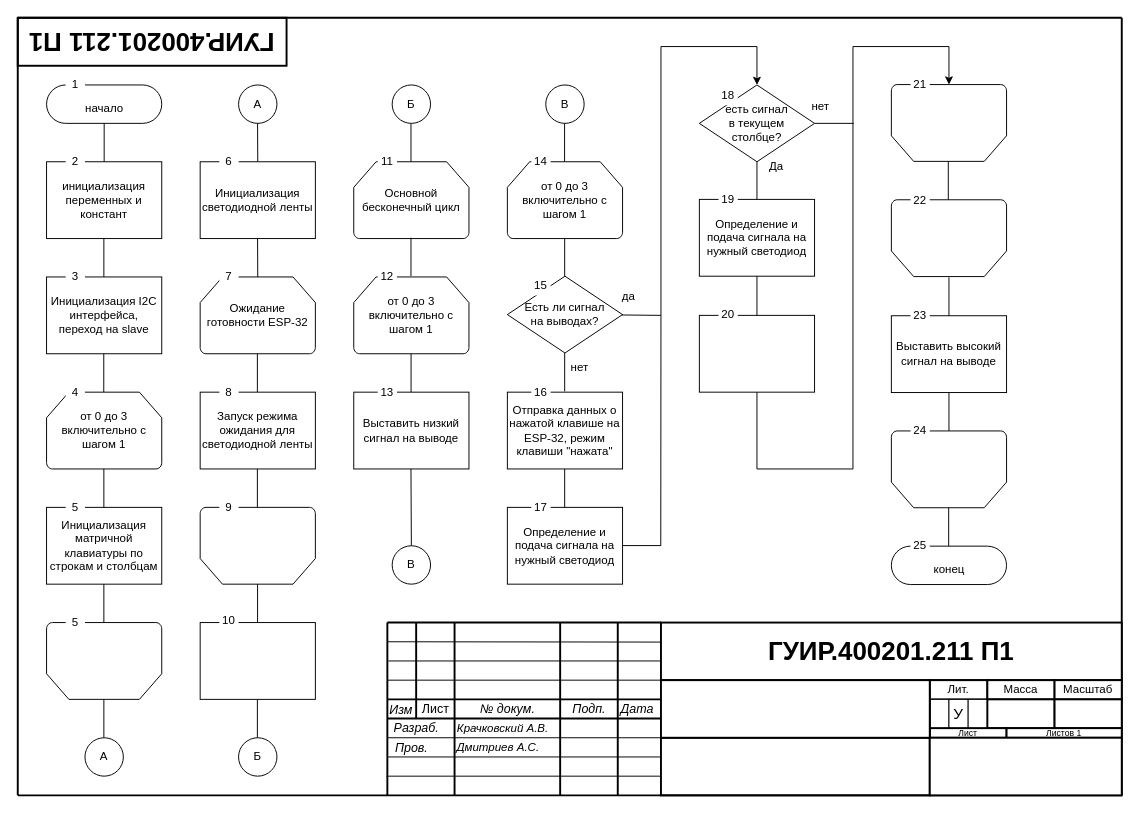
The diagram is 1140 pixels wide and 813 high, and some of its shapes have lost their labels. Here are the shapes that lost their labels. From the top down, the centre of each, then its label:
the point at 756,353: Режим клавиши "не нажата"
the point at 257,660: Переход со slave на master, оповещение пользователя о готовности устройства
the point at 795,708: Музыкальный пад Блок схема алгоритма Arduino UNO
the point at 1025,766: ЭВМ, гр 050502
